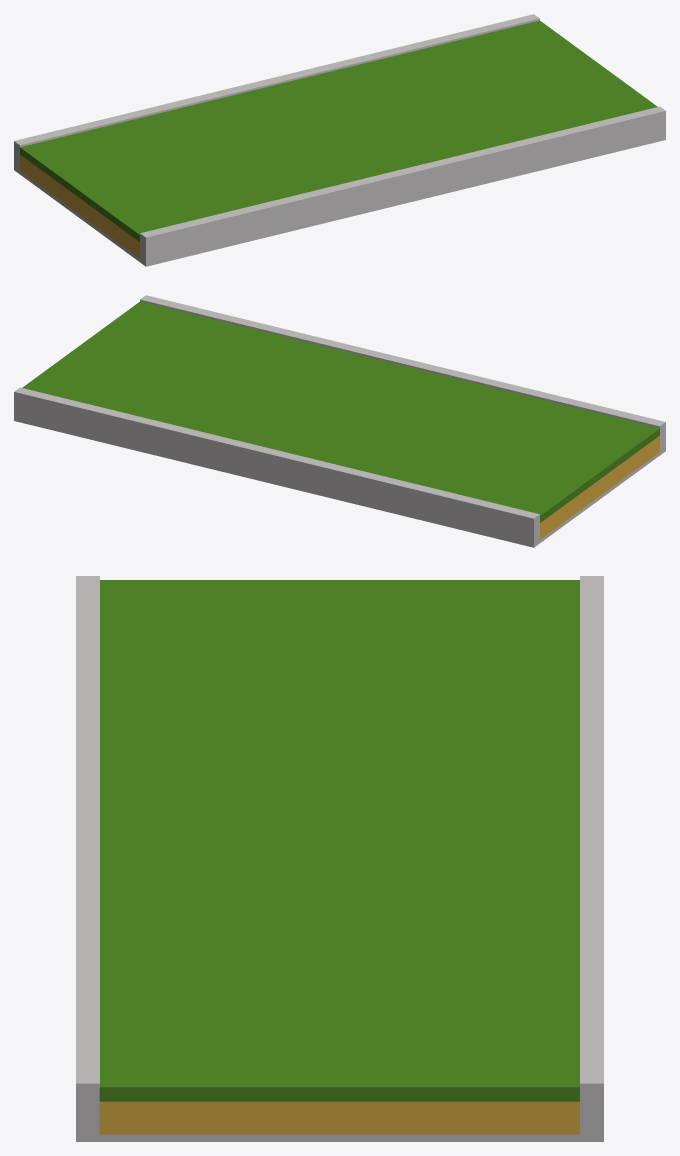
File: Grass3.1.fbx
3 renders of one model, top to bottom at view 1: azimuth 30°, elevation 25°; view 2: azimuth 150°, elevation 25°; view 3: azimuth 270°, elevation 25°, orthographic. The views are drawn at different scales.
Visible parts, largest first — view 1: Cube, Cube.001, Cube.002; view 2: Cube, Cube.002, Cube.001; view 3: Cube, Cube.001, Cube.002.
Part boxes in pixels (<box>): Cube: <box>20,20,657,261</box>; Cube.001: <box>140,106,665,266</box>; Cube.002: <box>14,14,539,174</box>; Cube: <box>22,301,659,542</box>; Cube.002: <box>14,387,539,547</box>; Cube.001: <box>140,295,665,455</box>; Cube: <box>99,580,579,1141</box>; Cube.001: <box>76,576,99,1141</box>; Cube.002: <box>580,576,603,1141</box>.
Size of the model in its own units: 2000 by 107 by 880.
